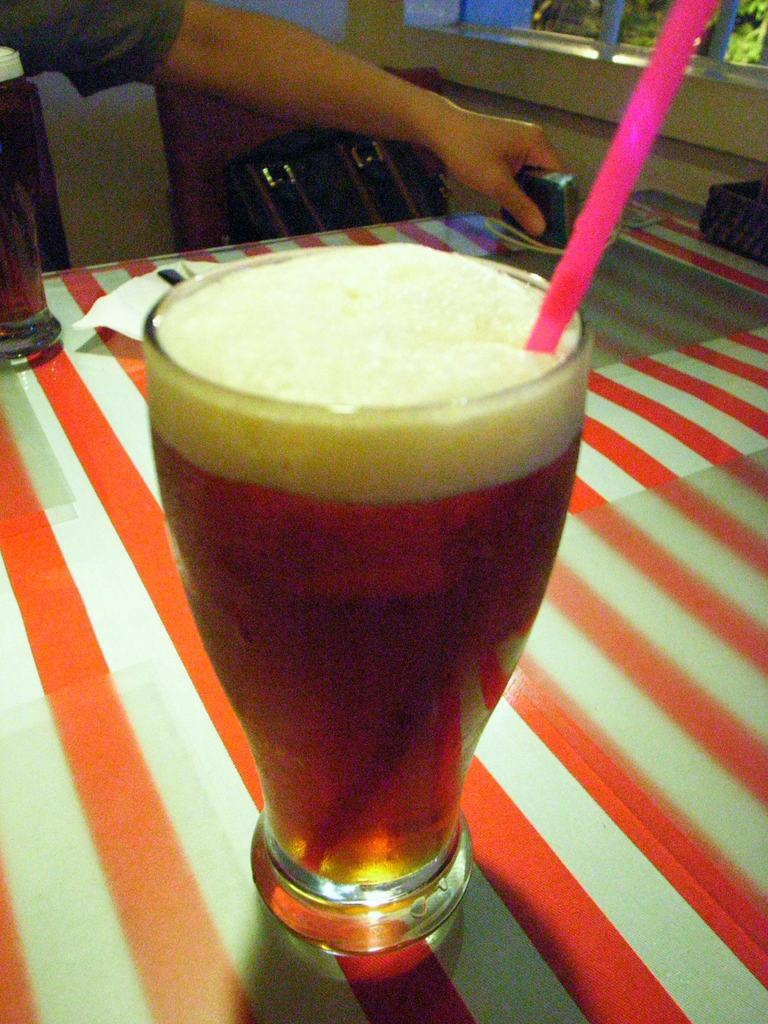Beer: (131, 226, 599, 992)
